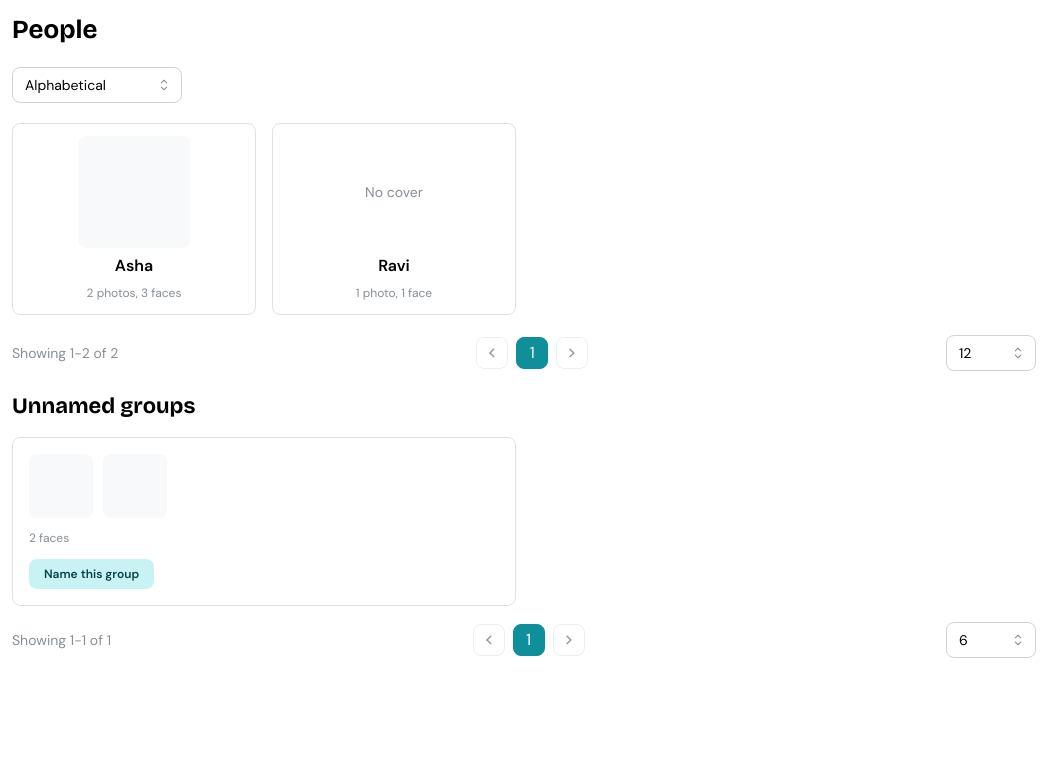
People › keeps naming successful when matching fails
Click the button "Name this group" at [92, 574], box [29,559,154,589]
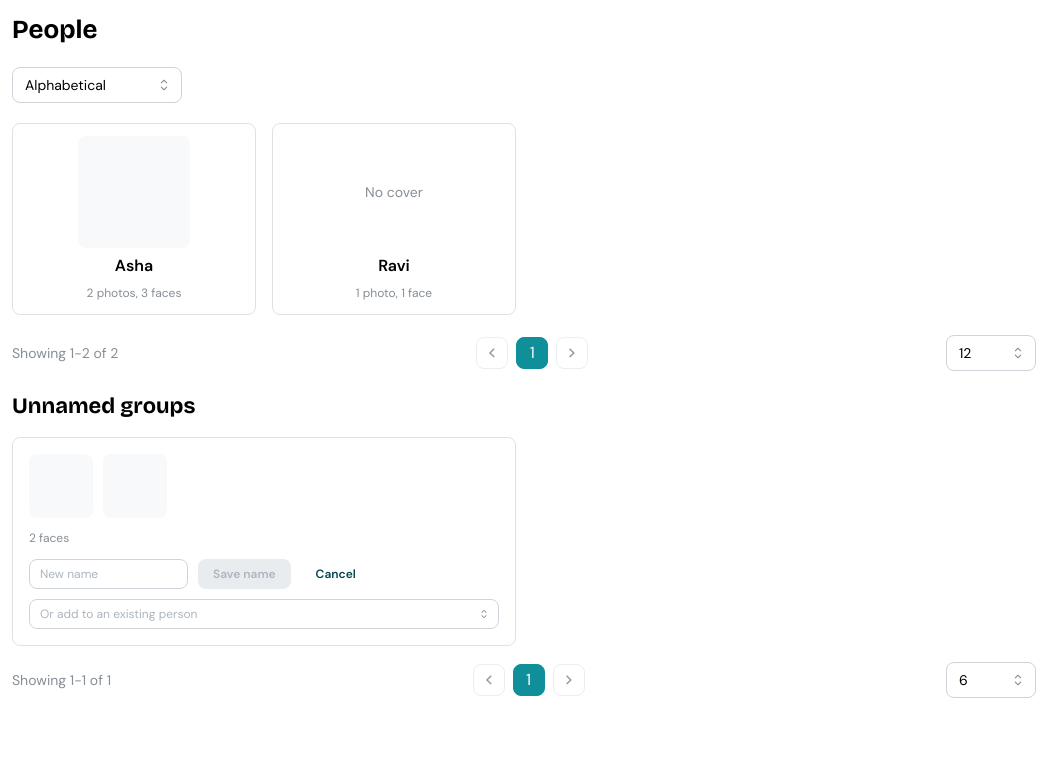
Type "Meera" into the field named "Person name" at [108, 574], box [29,559,188,589]
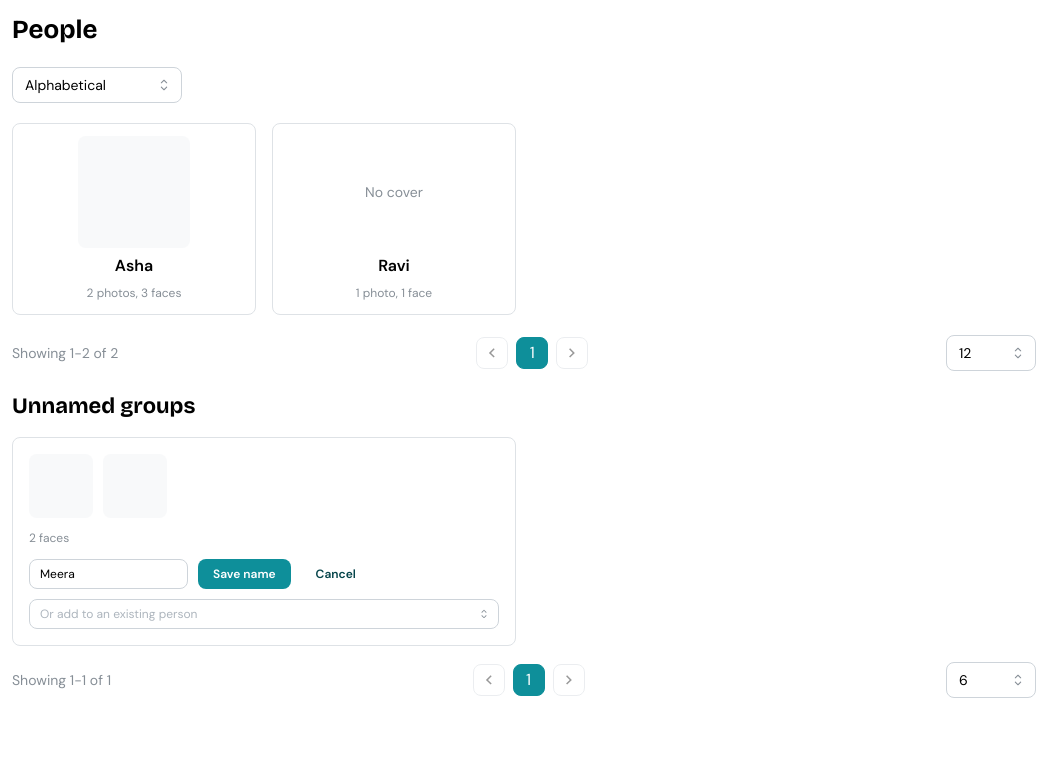
Click the button "Save name" at [244, 574], box [198,559,291,589]
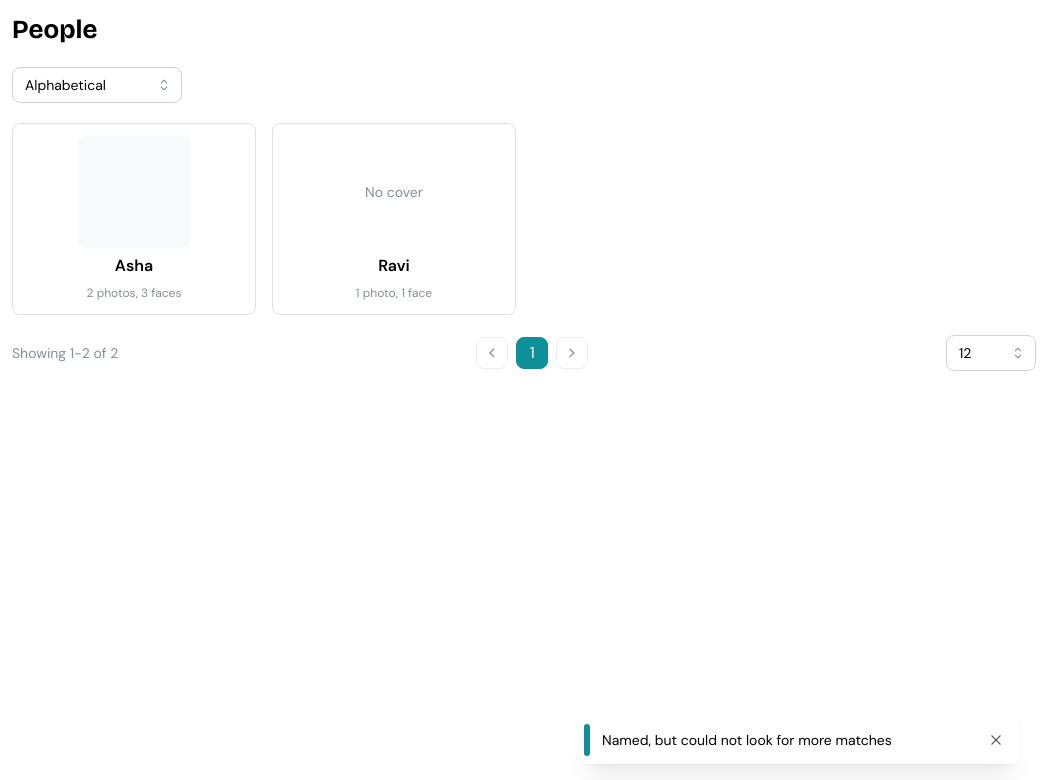
Check: the text "Named, but could not look for more matches" is shown, box [602,731,892,749]
